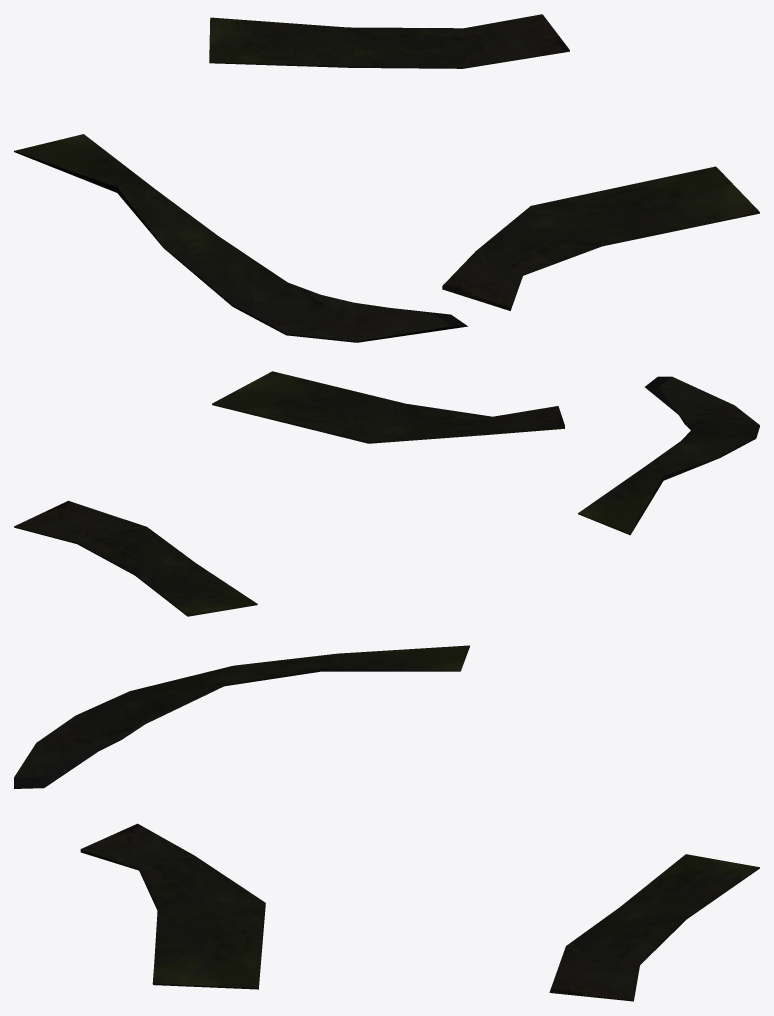
The model's file is road1.glb.
The picture shows the model from 3 angles, top to bottom: view 1: azimuth 30°, elevation 25°; view 2: azimuth 150°, elevation 25°; view 3: azimuth 270°, elevation 25°; orthographic projection. The views are drawn at different scales.
Parts seen in each view (by area): view 1: roadbak; view 2: roadbak; view 3: roadbak.
Boxes of the visible parts, x1,y1,x2,y2 form: roadbak: (14,14,759,342); roadbak: (14,371,759,616); roadbak: (14,645,759,1001).
Size of what is drawn, in the model's own units: 65.21 by 8.83 by 72.83.
1 material, 1 textured.
